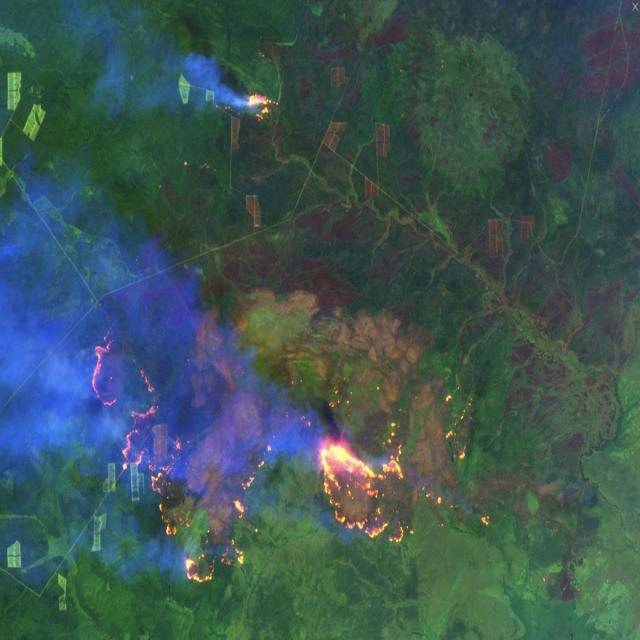fire: (88, 329, 277, 592), (315, 432, 421, 552), (243, 82, 280, 123)
